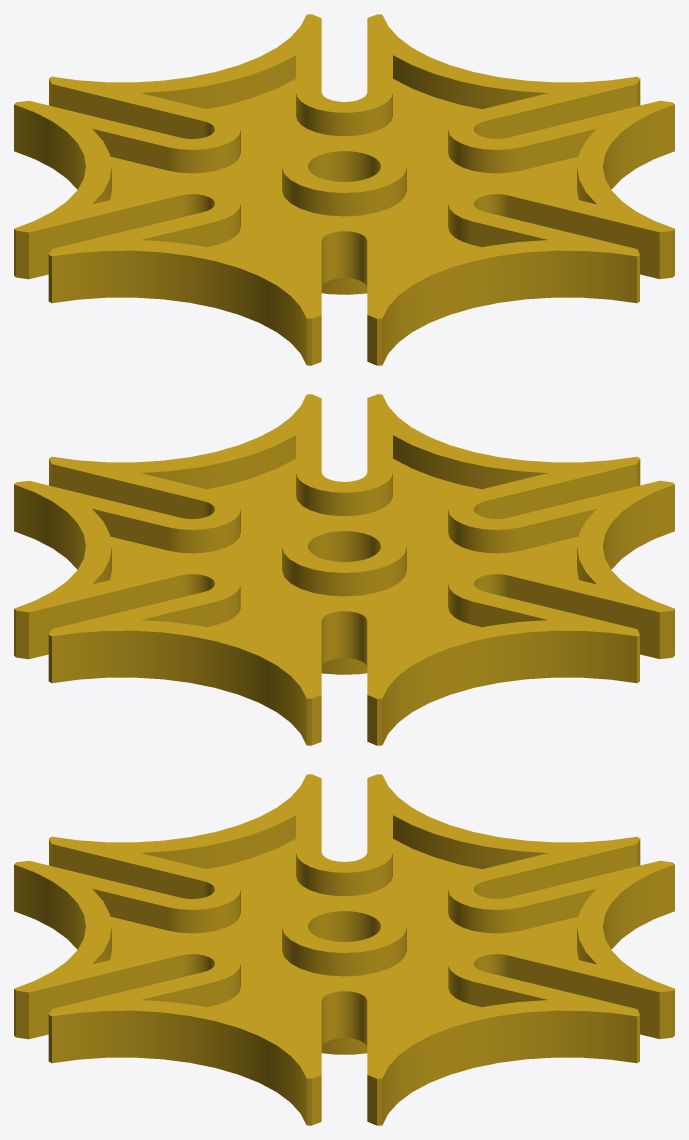
The model's file is Geneva_Gear.gltf.
3 views of the same model, one above another, from view 1: azimuth 30°, elevation 25°; view 2: azimuth 150°, elevation 25°; view 3: azimuth 270°, elevation 25° (orthographic).
Parts seen in each view (by area): view 1: Geneva Gear; view 2: Geneva Gear; view 3: Geneva Gear.
Boxes of the visible parts, left/top/right/bottom form: Geneva Gear: left=14, top=14, right=674, bottom=365; Geneva Gear: left=14, top=394, right=674, bottom=745; Geneva Gear: left=14, top=774, right=674, bottom=1125.
Size of the model in its own units: 0.0885 by 0.013 by 0.0812.
